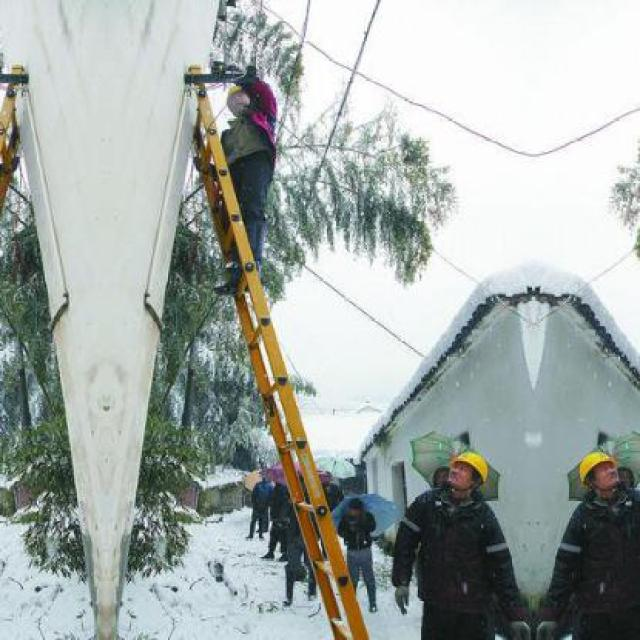helmet: (441, 446, 492, 499), (573, 446, 624, 499), (224, 77, 256, 114)
